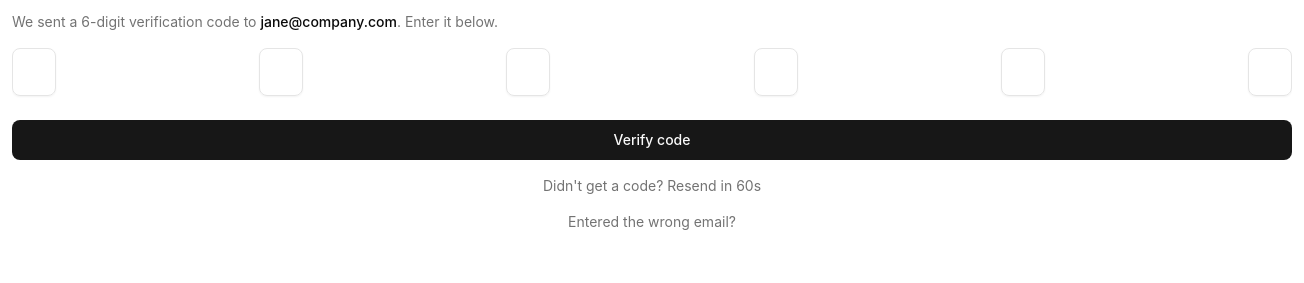
Test: VerifyStep › shows a wrong-code-specific message for error_code "invalid"
Step 1. Type "0" into the field named "Digit 1 of 6" → (34, 72), box [12,48,56,96]
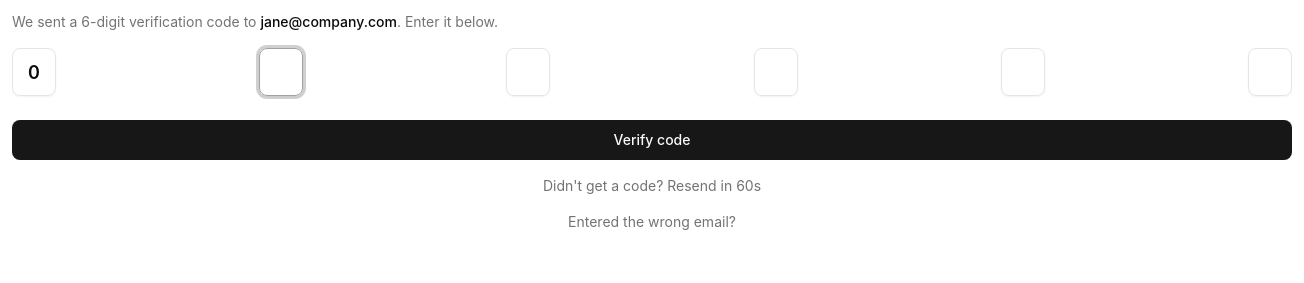
Step 2. Type "0" into the field named "Digit 2 of 6" → (281, 72), box [259,48,303,96]
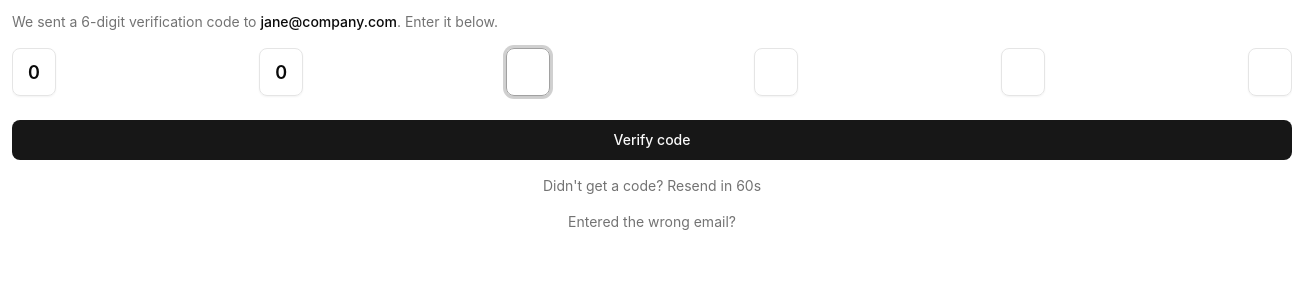
Step 3. Type "0" into the field named "Digit 3 of 6" → (528, 72), box [506,48,550,96]
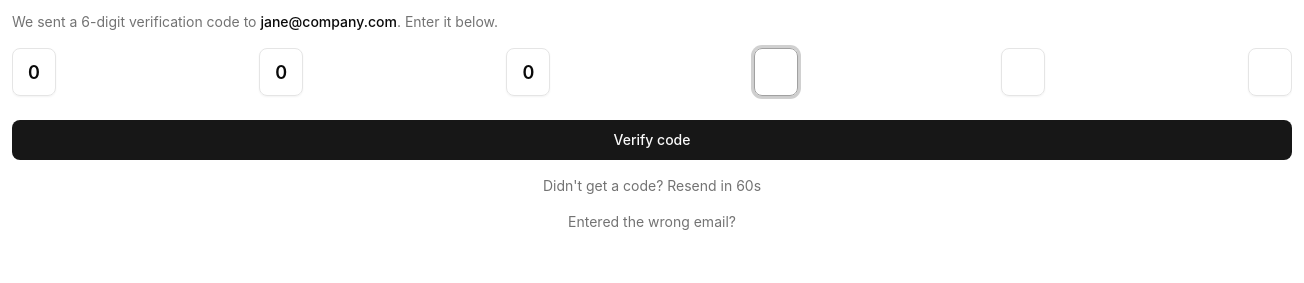
Step 4. Type "0" into the field named "Digit 4 of 6" → (776, 72), box [754,48,798,96]
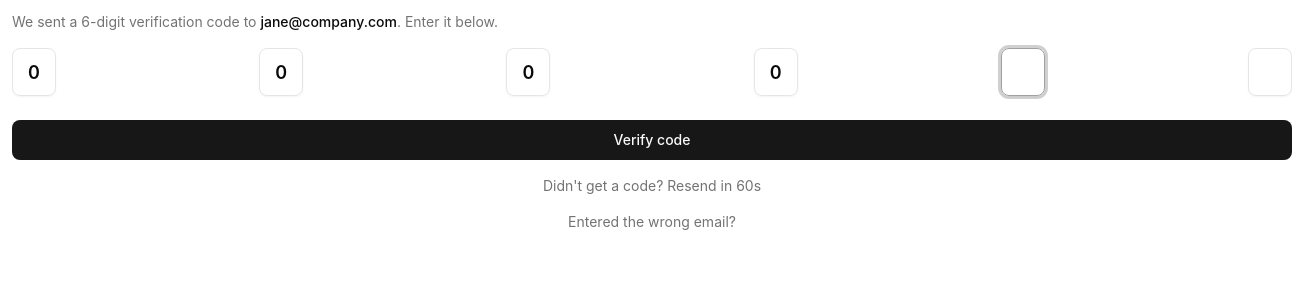
Step 5. Type "0" into the field named "Digit 5 of 6" → (1023, 72), box [1001,48,1045,96]
Step 6. Type "0" into the field named "Digit 6 of 6" → (1270, 72), box [1248,48,1292,96]
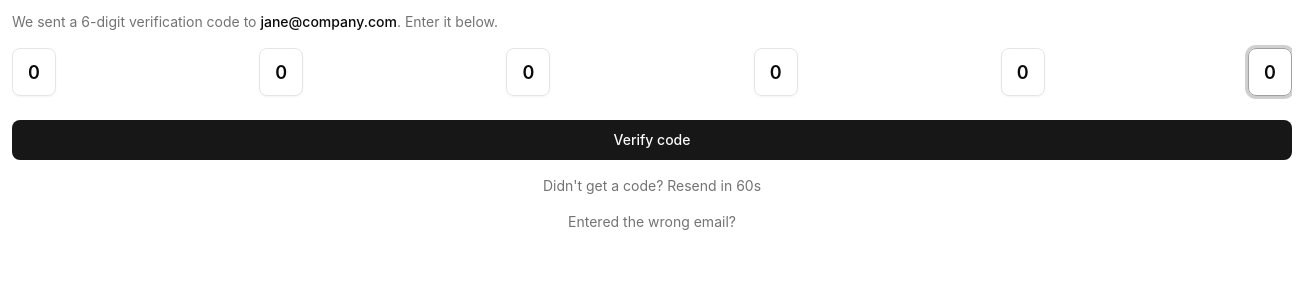
Step 7. Click the button "Verify code" → (652, 140), box [12,120,1292,160]
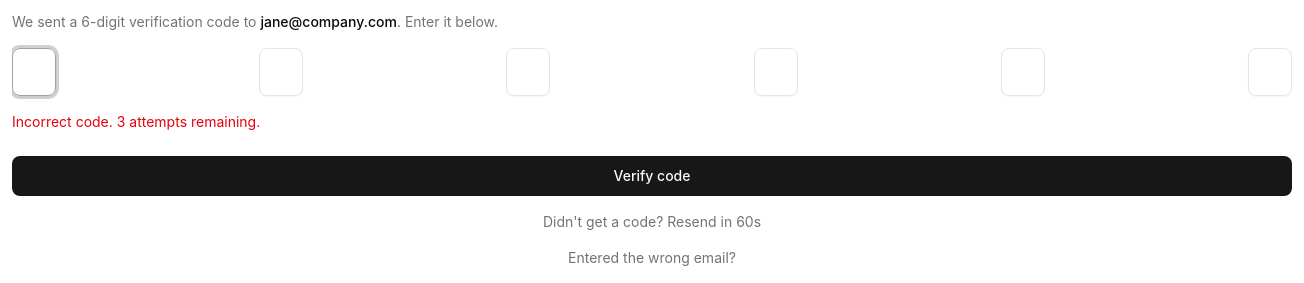
Check: the text "Incorrect code. 3 attempts remaining." is shown, box [12,113,260,130]
